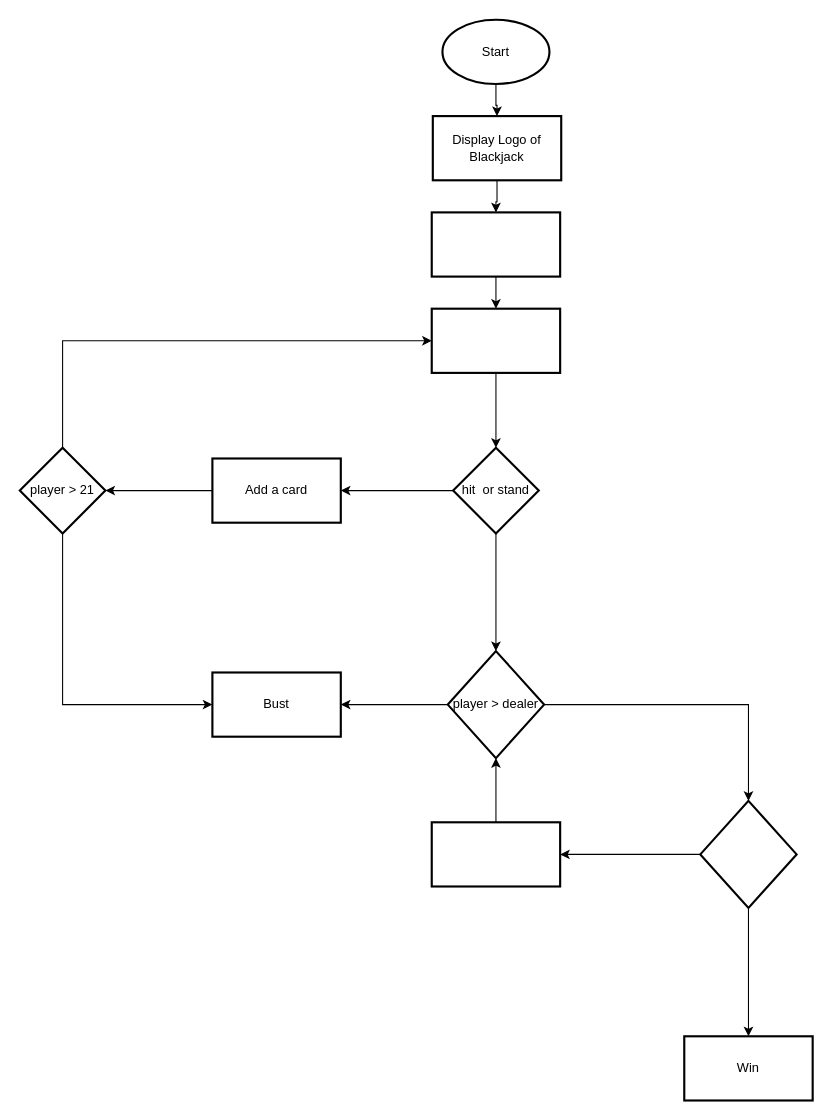
This 831x1119 diagram has some shape labels left out. Each missing label, with the centre of its shape:
add dealer 1 card: the point at 495,854
Deal card to player and dealer: the point at 495,244
dealer < 15: the point at 748,853
Show player their cards to one of the dealers card: the point at 495,340
